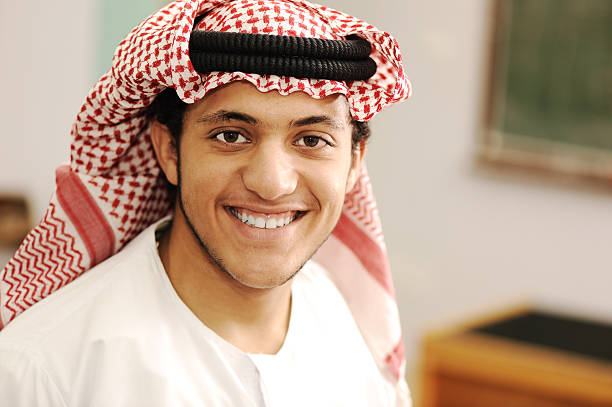face: (184, 88, 356, 290)
